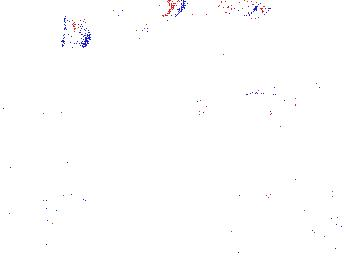X-ray fish: (57, 4, 91, 55)
glassfish: (190, 94, 300, 122)
red belly glassfish: (310, 68, 327, 88)
redtail glassfish: (89, 21, 154, 48), (163, 1, 249, 20), (81, 1, 137, 30), (228, 1, 273, 20)
